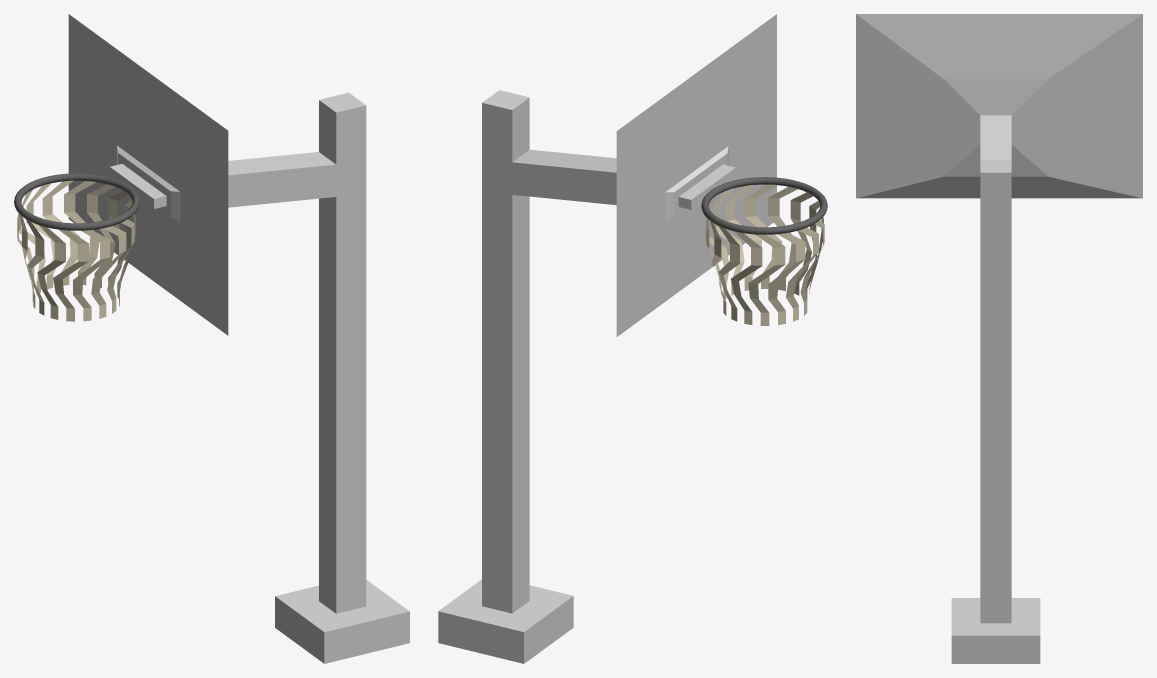
The model's file is colco.fbx.
3 renders of one model, left to right at view 1: azimuth 30°, elevation 25°; view 2: azimuth 150°, elevation 25°; view 3: azimuth 270°, elevation 25°, orthographic. The views are drawn at different scales.
Parts seen in each view (by area): view 1: Cube, Cylinder, Torus; view 2: Cube, Cylinder, Torus; view 3: Cube.
Part boxes in pixels (box(x1,y1,x2,y2)): Cube: box(68, 14, 409, 663); Cylinder: box(17, 180, 135, 321); Torus: box(14, 173, 139, 230); Cube: box(438, 14, 776, 663); Cylinder: box(705, 184, 824, 325); Torus: box(701, 177, 827, 234); Cube: box(856, 14, 1142, 663).
Size of the model in its own units: 197 by 319 by 152.
